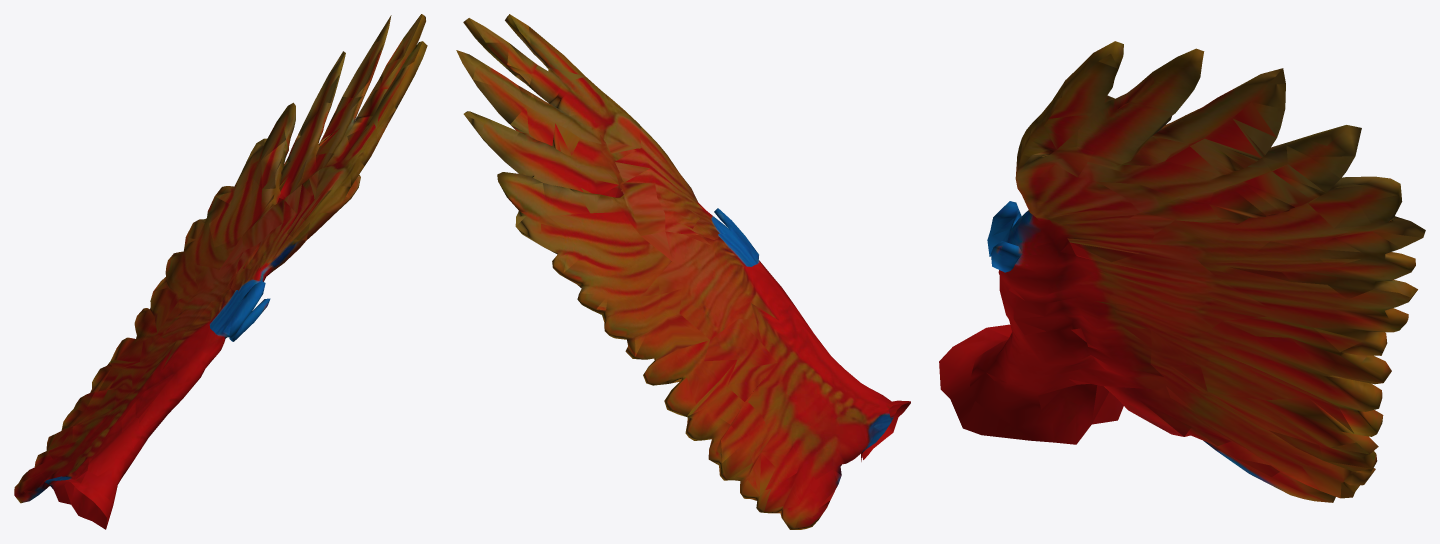
File: alaIzqAve.obj
The picture shows the model from 3 angles, left to right: view 1: azimuth 30°, elevation 25°; view 2: azimuth 150°, elevation 25°; view 3: azimuth 270°, elevation 25°; orthographic projection. The views are drawn at different scales.
Visible parts, largest first — view 1: alaIzqAve; view 2: alaIzqAve; view 3: alaIzqAve.
Boxes of the visible parts, box(x1,y1,x2,y2) form: alaIzqAve: box(14, 14, 427, 529); alaIzqAve: box(456, 14, 910, 529); alaIzqAve: box(939, 41, 1425, 502).
Size of the model in its own units: 0.4628 by 0.4515 by 0.2473.
Materials: 1 (1 with a texture image).
